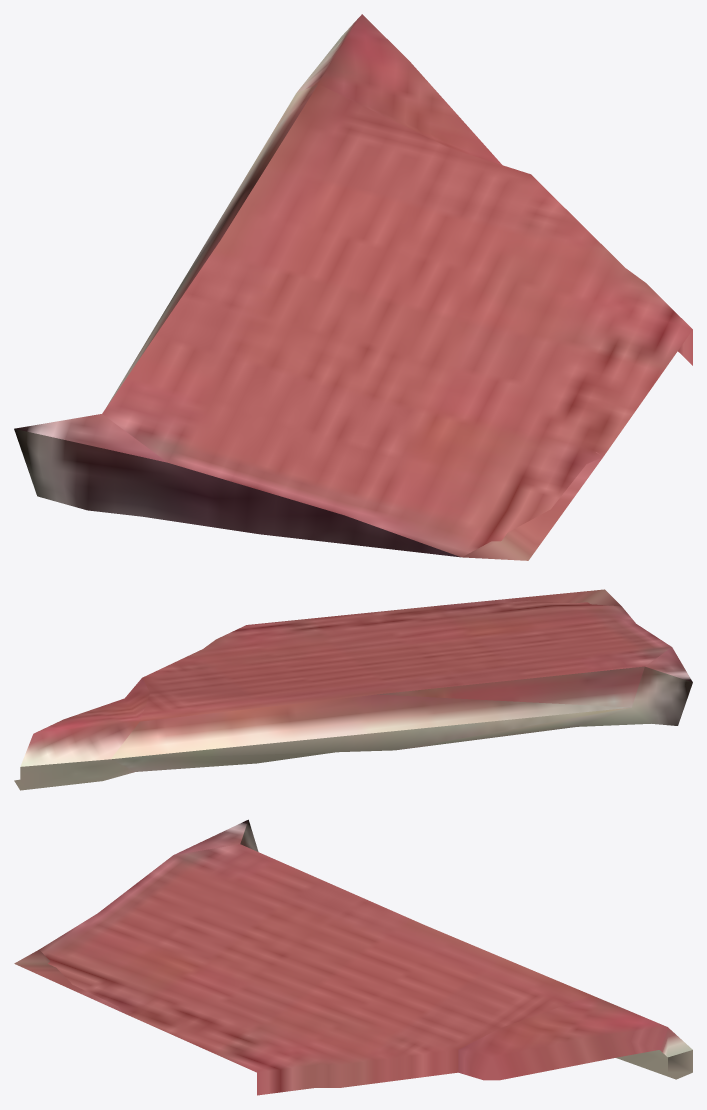
3 renders of one model, top to bottom at view 1: azimuth 30°, elevation 25°; view 2: azimuth 150°, elevation 25°; view 3: azimuth 270°, elevation 25°, orthographic. The views are drawn at different scales.
Parts seen in each view (by area): view 1: 30436272704370624637_0; view 2: 30436272704370624637_0; view 3: 30436272704370624637_0.
Part boxes in pixels (<box>): 30436272704370624637_0: <box>14,14,692,560</box>; 30436272704370624637_0: <box>14,589,692,790</box>; 30436272704370624637_0: <box>14,819,692,1095</box>.
Bounding box in the file's own units: 9.36 × 1.39 × 12.5.
Materials: 1 (1 with a texture image).
